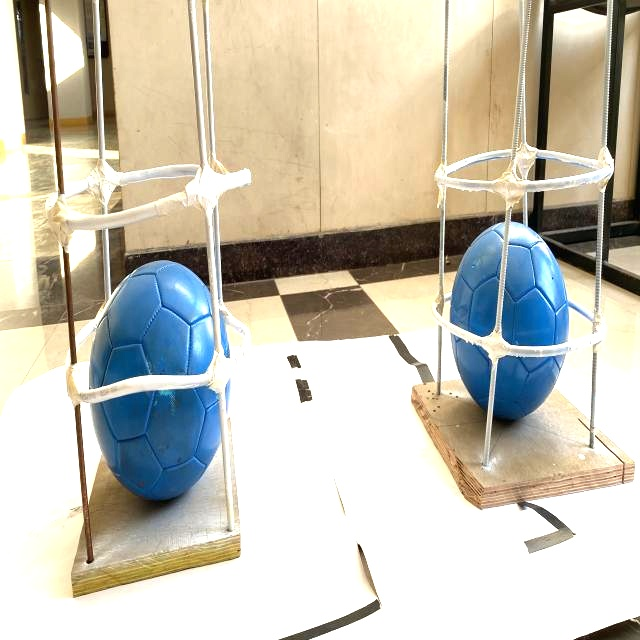blue_ball: (92, 257, 231, 499), (450, 217, 568, 410)
silo: (32, 0, 249, 577), (424, 3, 640, 486)
